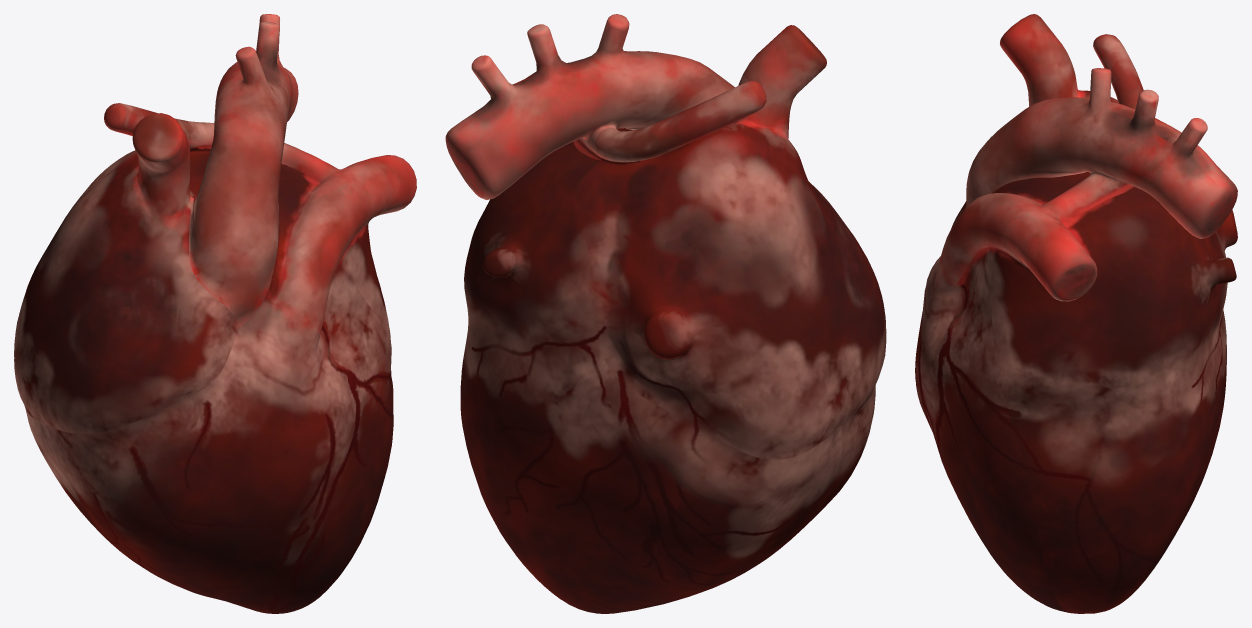
The model's file is coracao.glb.
The picture shows the model from 3 angles, left to right: view 1: azimuth 30°, elevation 25°; view 2: azimuth 150°, elevation 25°; view 3: azimuth 270°, elevation 25°; orthographic projection. The views are drawn at different scales.
Visible parts, largest first — view 1: hart:ZBrush_defualt_group; view 2: hart:ZBrush_defualt_group; view 3: hart:ZBrush_defualt_group.
Boxes of the visible parts, x1=… form: hart:ZBrush_defualt_group: x1=14, y1=14, x2=416, y2=613; hart:ZBrush_defualt_group: x1=445, y1=14, x2=886, y2=613; hart:ZBrush_defualt_group: x1=915, y1=14, x2=1237, y2=613.
Bounding box in the file's own units: 6.22 × 9.19 × 5.05.
Materials: 1 (1 with a texture image).
